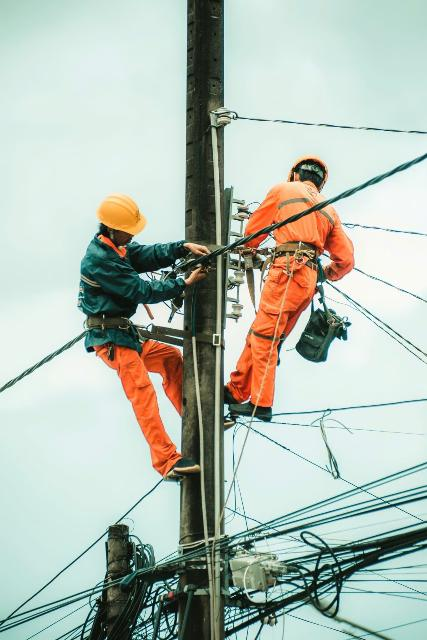harness: (264, 226, 340, 277), (67, 316, 172, 350)
helmet: (84, 183, 165, 251), (274, 155, 345, 202)
shoes: (224, 403, 282, 431), (161, 449, 200, 483), (212, 381, 242, 406)
